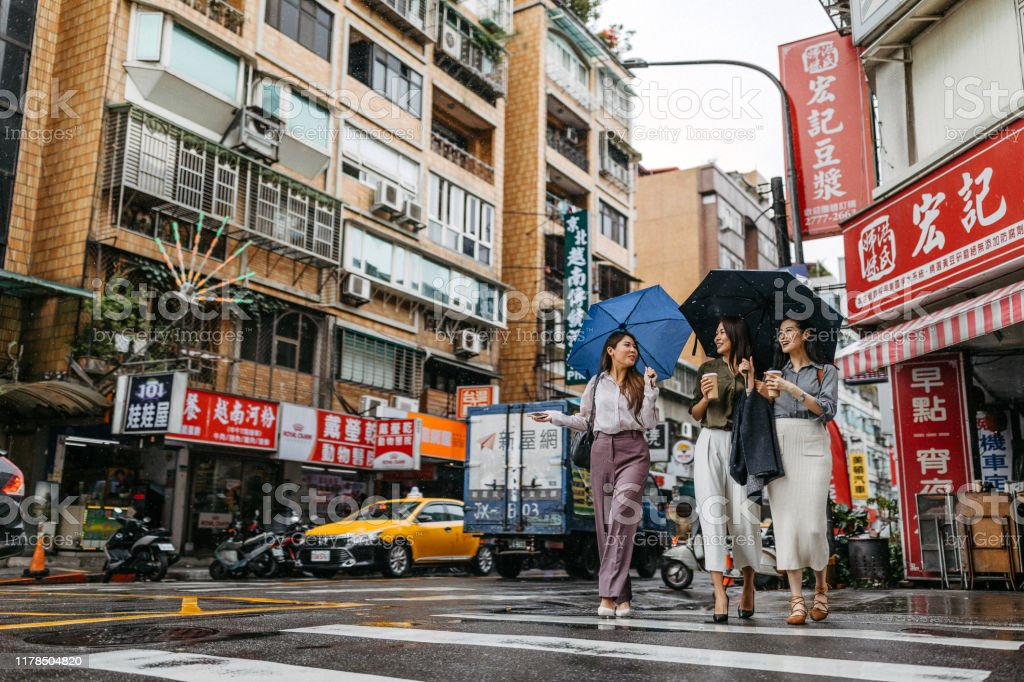face: (708, 314, 753, 365), (775, 313, 818, 360), (601, 329, 643, 372)
